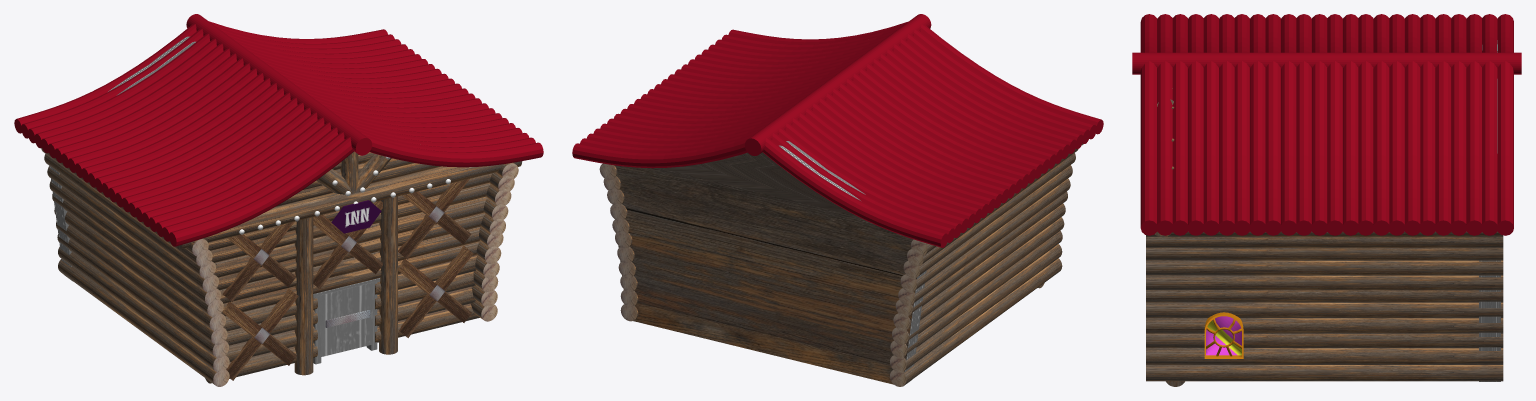
File: Inn-east.fbx
The picture shows the model from 3 angles, left to right: view 1: azimuth 30°, elevation 25°; view 2: azimuth 150°, elevation 25°; view 3: azimuth 270°, elevation 25°; orthographic projection. The views are drawn at different scales.
Visible parts, largest first — view 1: Cube.001, Cube.004; view 2: Cube.001; view 3: Cube.001.
Boxes of the visible parts, x1,y1,x2,y2 form: Cube.001: (14,14,543,386); Cube.004: (320,282,372,356); Cube.001: (572,14,1103,386); Cube.001: (1132,14,1521,386).
Size of the model in its own units: 0.4469 by 0.2708 by 0.3566.
